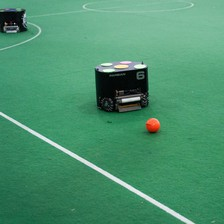ball: (144, 116, 160, 134)
robot: (92, 58, 151, 114), (1, 5, 29, 34)
